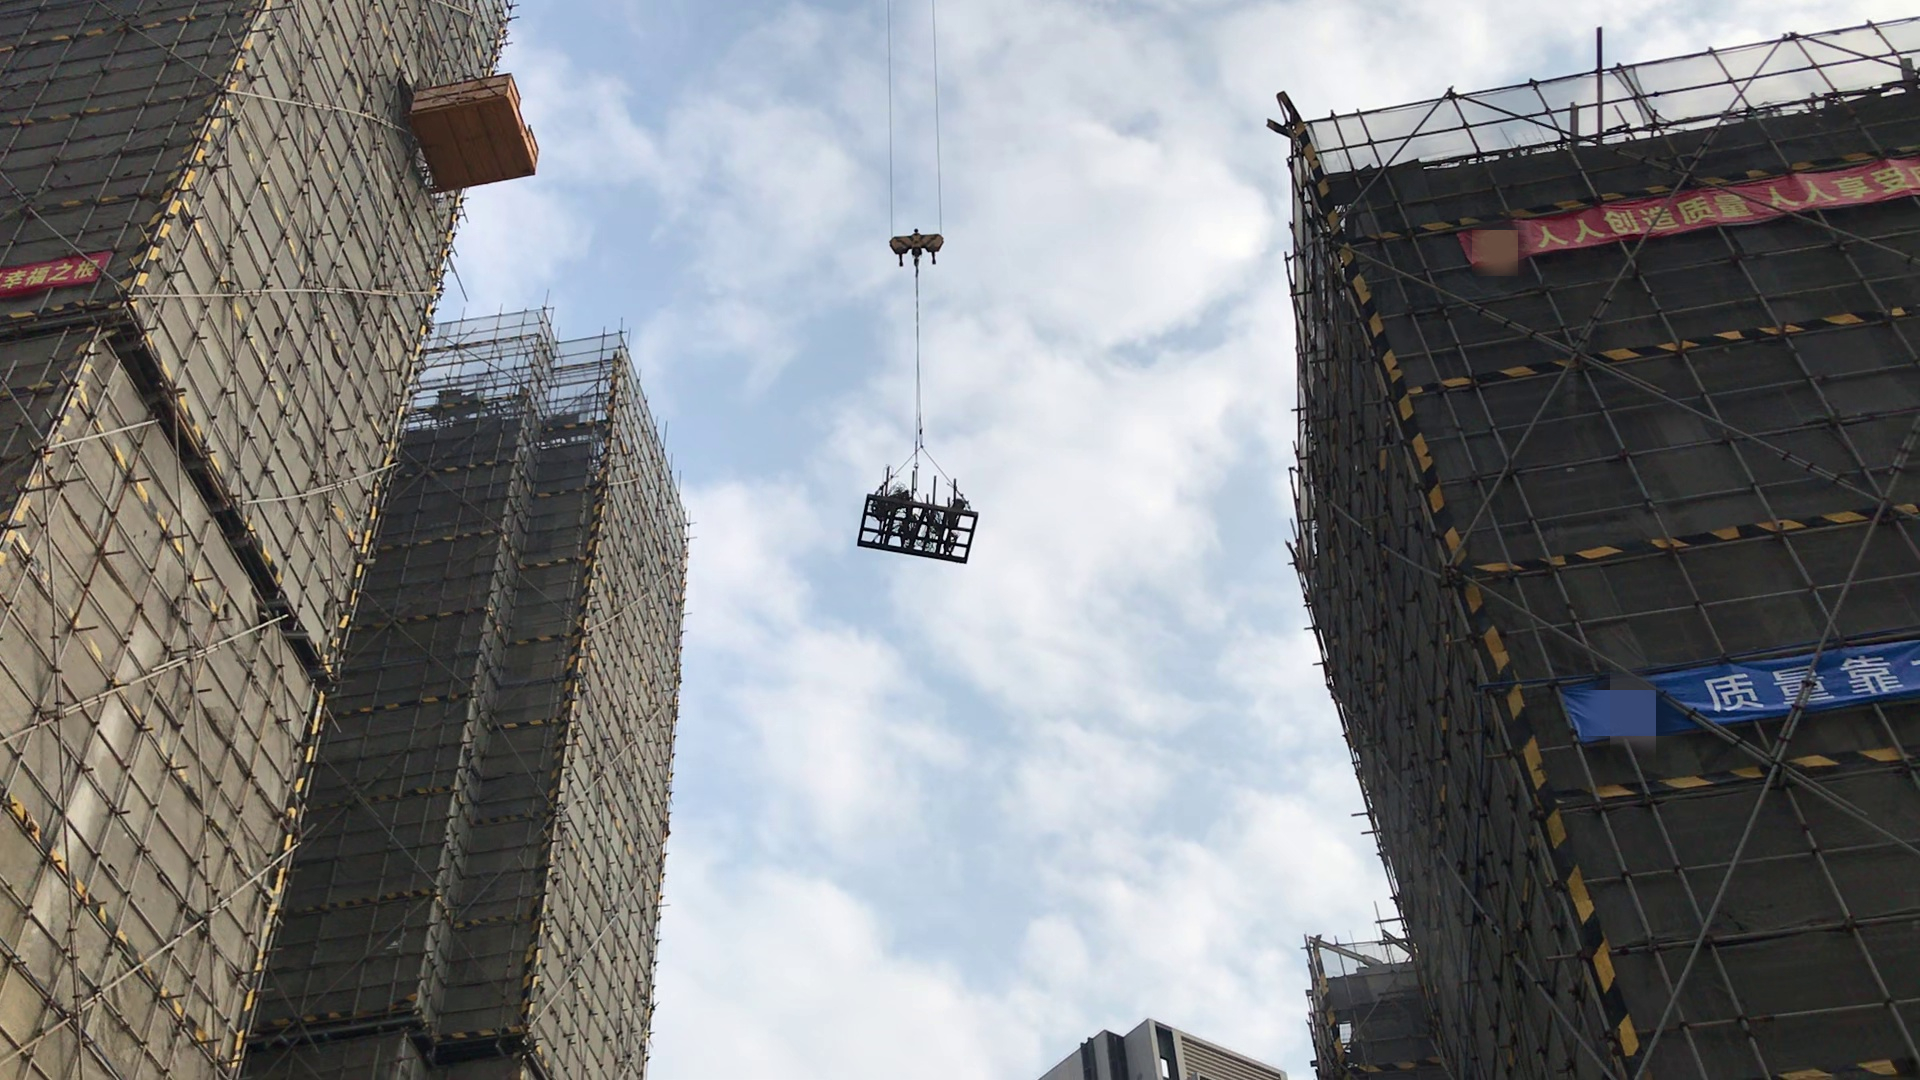hook: (891, 220, 956, 265)
slogan: (1465, 174, 1920, 245), (1677, 636, 1920, 727), (3, 228, 113, 302)
